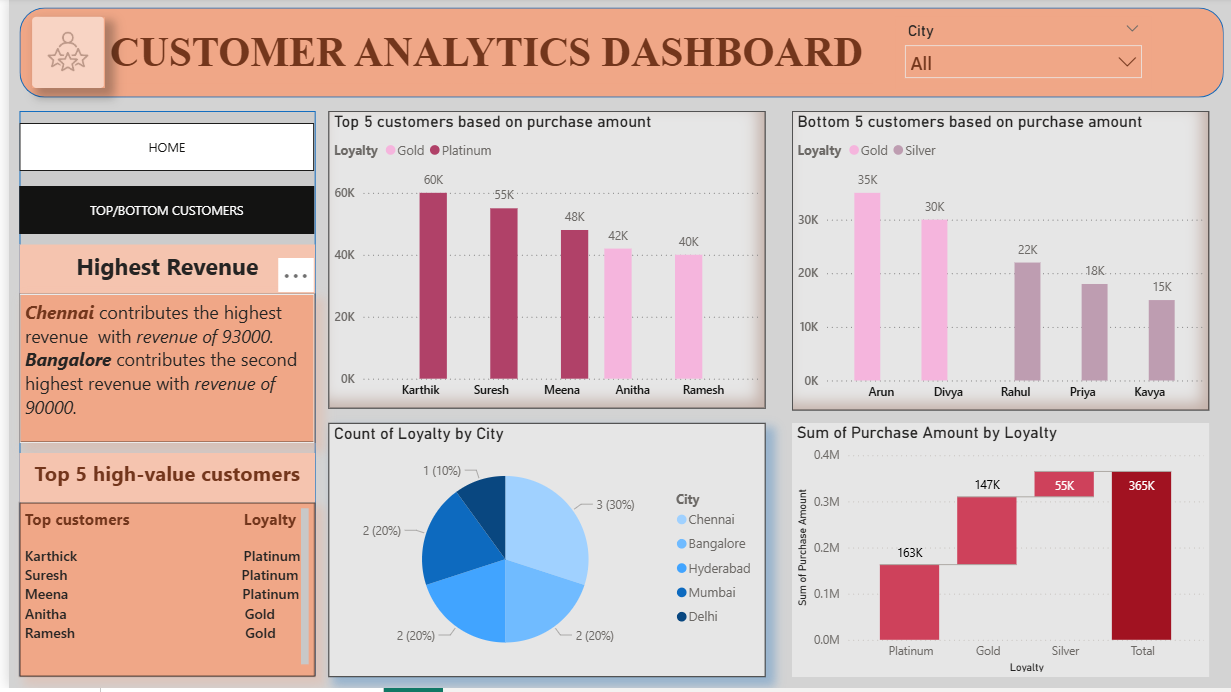

The page's visual inventory and layout, read from the dashboard file:
{"tool":"powerbi","page":{"name":"TOP/BOTTOM  CUSTOMERS","canvas":[1280,720],"ordinal":1},"visuals":[{"type":"shape","box":[11.1,119.3,308.6,588.5],"z":0},{"type":"shape","box":[11.1,11.1,1255,93.8],"z":1000},{"type":"textbox","box":[100.2,28.6,800.1,62],"z":2000},{"type":"slicer","fields":{"Values":["CusomerAnalytics.Loyalty"]},"box":[924.1,20.8,266.5,75.6],"z":3000},{"type":"image","box":[23.9,20.7,76.3,74.8],"z":4000},{"type":"pageNavigator","box":[10.9,131.3,307.9,50],"z":5000},{"type":"pageNavigator","box":[10.9,196.9,307.9,50],"z":7000},{"type":"textbox","box":[10.9,257.9,307.9,51.6],"z":8000},{"type":"textbox","box":[10.9,309.5,307.9,154.7],"z":9000},{"type":"textbox","box":[10.9,526.7,307.9,181.3],"z":10000},{"type":"textbox","box":[10.9,475.1,307.9,51.6],"z":11000},{"type":"clusteredColumnChart","title":"Top 5 customers based on purchase amount","fields":{"Category":["CusomerAnalytics.Customer Name"],"Y":["Sum(CusomerAnalytics.Purchase Amount)"],"Series":["CusomerAnalytics.Loyalty"]},"box":[332.6,119.1,455.4,309.9],"z":12000},{"type":"pieChart","fields":{"Category":["CusomerAnalytics.City"],"Y":["CountNonNull(CusomerAnalytics.Loyalty)"]},"box":[332.6,444.1,455.4,264.6],"z":12001},{"type":"clusteredColumnChart","title":"Bottom 5 customers based on purchase amount","fields":{"Category":["CusomerAnalytics.Customer Name"],"Y":["Sum(CusomerAnalytics.Purchase Amount)"],"Series":["CusomerAnalytics.Loyalty"]},"box":[816.4,119.1,434.6,311.8],"z":12002},{"type":"waterfallChart","fields":{"Category":["CusomerAnalytics.Loyalty"],"Y":["Sum(CusomerAnalytics.Purchase Amount)"]},"box":[816.4,444.1,434.6,264.6],"z":12003}]}

Visuals, with their boxes in screenshot pixels (x1, y1, x2, y2), scaled from the page's 1280x720 canvas onto the 1231x692 screenshot:
shape: 11:115:307:680
shape: 11:11:1218:101
textbox: 96:27:866:87
slicer - CusomerAnalytics.Loyalty: 889:20:1145:93
image: 23:20:96:92
pageNavigator: 10:126:307:174
pageNavigator: 10:189:307:237
textbox: 10:248:307:297
textbox: 10:297:307:446
textbox: 10:506:307:680
textbox: 10:457:307:506
"Top 5 customers based on purchase amount" clusteredColumnChart: 320:114:758:412
pieChart - CusomerAnalytics.City x CountNonNull(CusomerAnalytics.Loyalty): 320:427:758:681
"Bottom 5 customers based on purchase amount" clusteredColumnChart: 785:114:1203:414
waterfallChart - CusomerAnalytics.Loyalty x Sum(CusomerAnalytics.Purchase Amount): 785:427:1203:681
